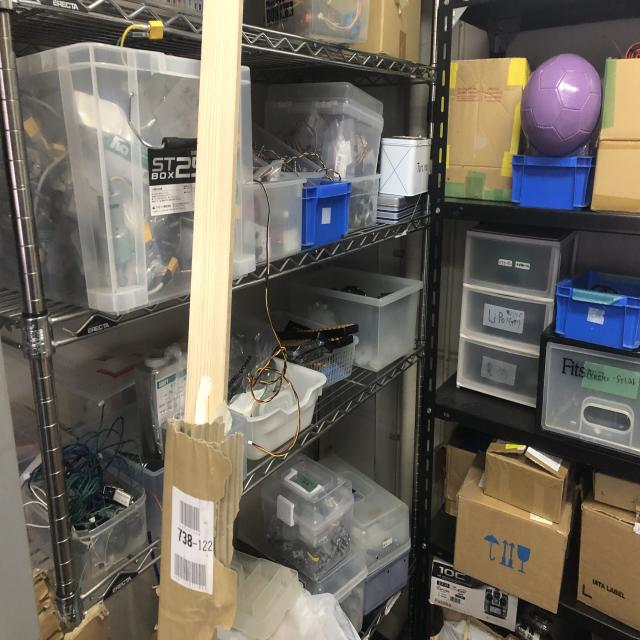purple_ball: (522, 53, 604, 150)
